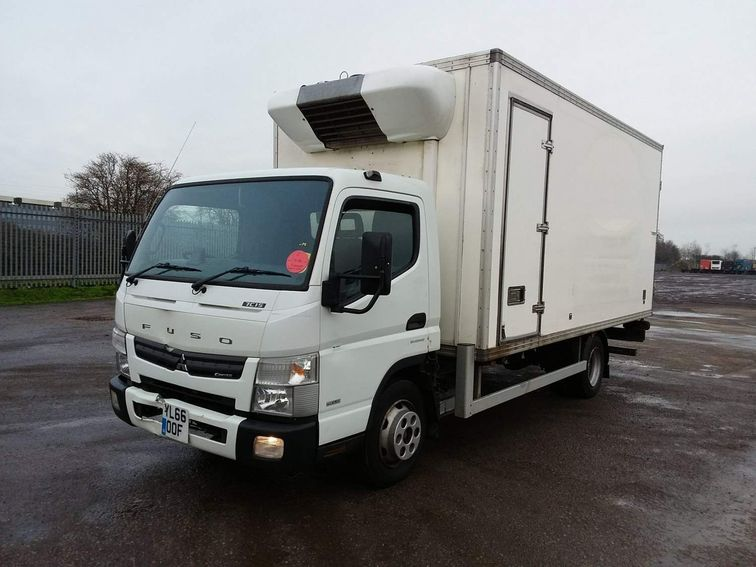Semi: (106, 47, 663, 483)
